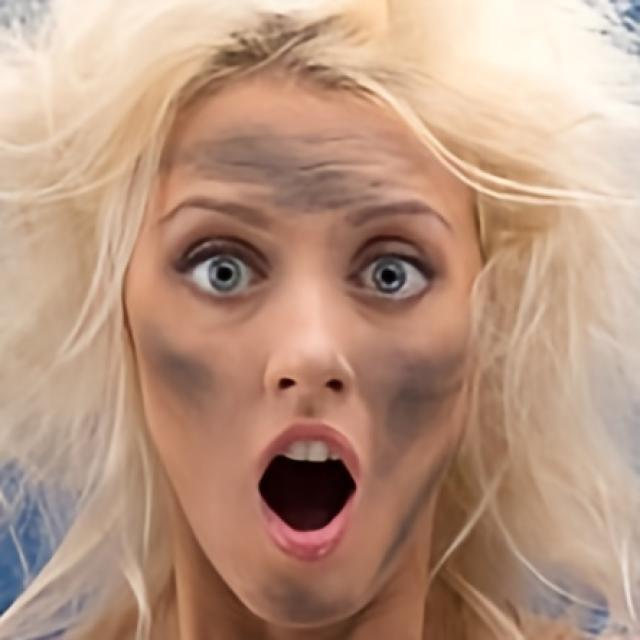fear: (122, 57, 486, 632)
